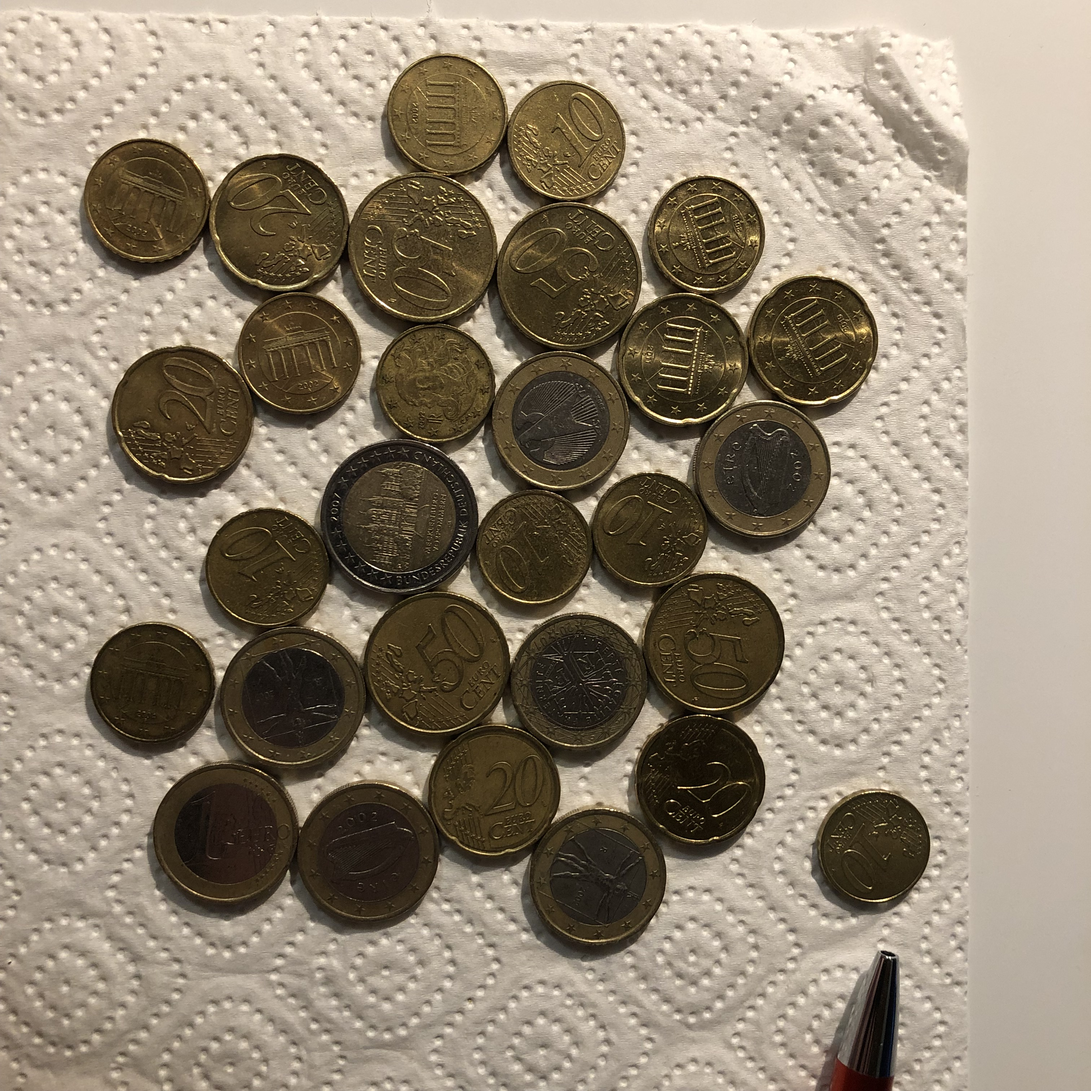1 euro: (151, 762, 301, 907), (293, 777, 443, 922), (523, 804, 672, 949), (220, 624, 366, 767), (693, 399, 832, 541), (492, 347, 631, 489), (509, 612, 648, 753)
10 cent: (206, 505, 332, 631), (387, 51, 512, 177), (503, 79, 628, 205), (643, 169, 768, 295), (237, 292, 362, 418), (86, 138, 211, 264), (372, 320, 497, 446), (469, 485, 594, 611), (586, 465, 711, 591), (810, 783, 935, 909), (91, 619, 216, 745)
2 euro: (317, 436, 480, 594)
20 cent: (111, 345, 255, 487), (210, 151, 351, 292), (616, 292, 752, 426), (746, 273, 881, 407), (429, 724, 563, 858), (634, 715, 767, 848)
50 cent: (349, 172, 497, 319), (363, 590, 512, 736), (494, 201, 642, 347), (642, 568, 784, 715)
